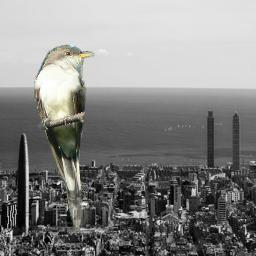Cuckoo: (34, 44, 95, 232)
